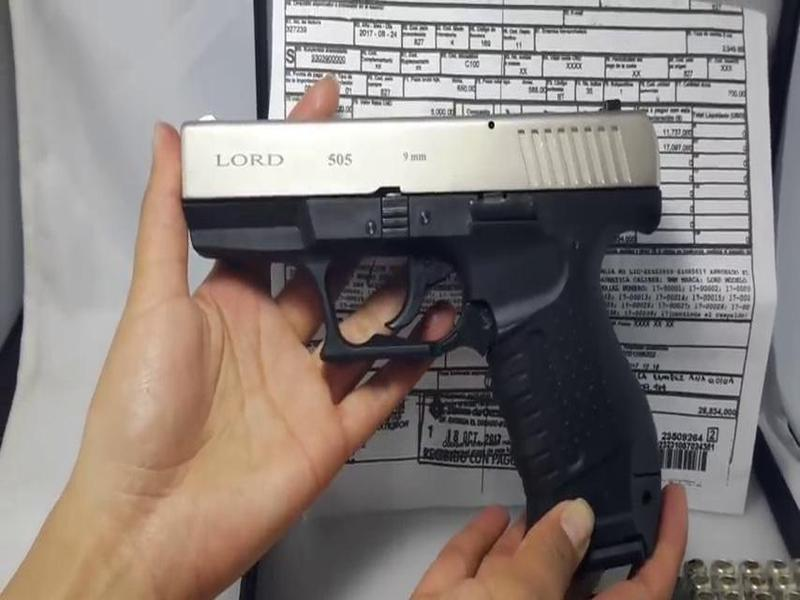Pistola: (166, 85, 710, 575)
